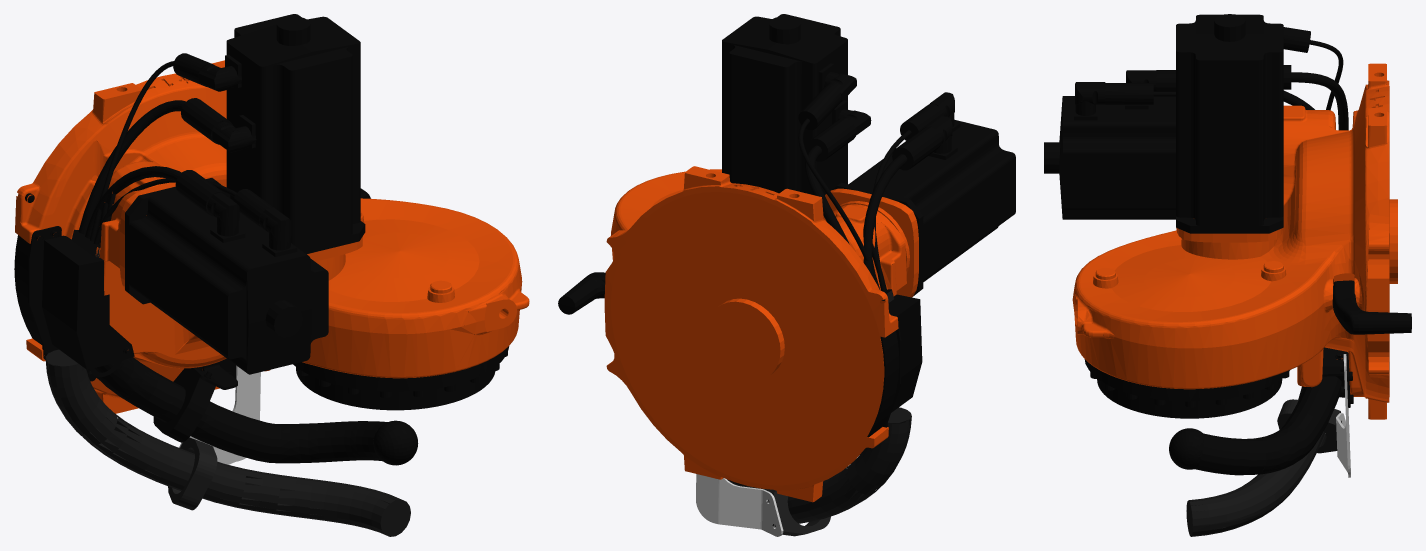
3 renders of one model, left to right at view 1: azimuth 30°, elevation 25°; view 2: azimuth 150°, elevation 25°; view 3: azimuth 270°, elevation 25°, orthographic. The views are drawn at different scales.
Visible parts, largest first — view 1: 1; view 2: 1; view 3: 1.
Boxes of the visible parts, x1,y1,x2,y2 form: 1: (14, 14, 529, 536); 1: (558, 14, 1015, 536); 1: (1044, 14, 1411, 536).
Bounding box in the file's own units: 0.4839 × 0.6221 × 0.4337.
